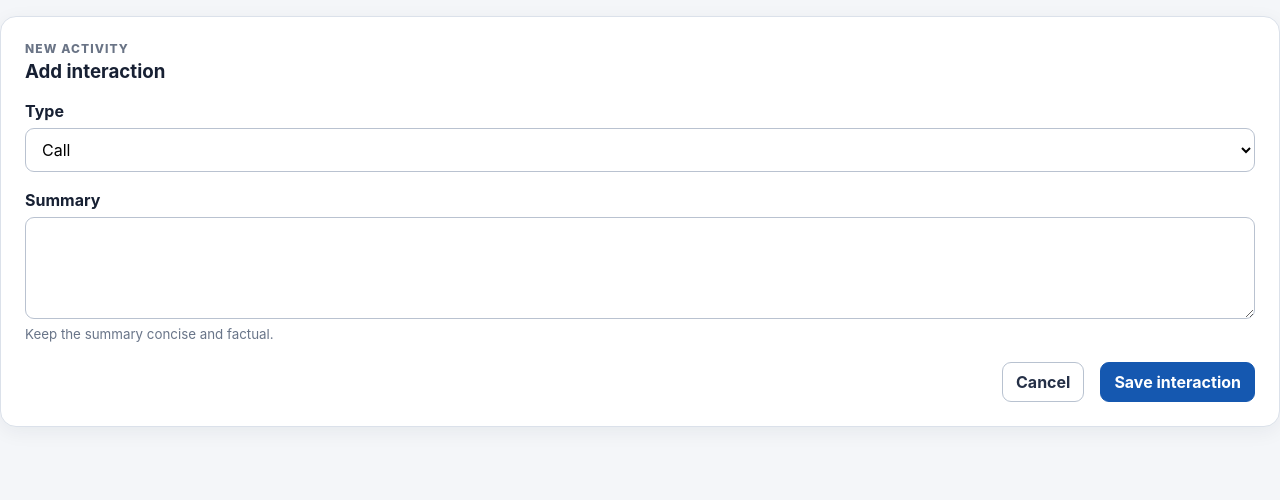
it: InteractionForm › requires a summary
This screenshot has width=1280, height=500.
Click the button "Save interaction" at (1178, 382), box left=1100, top=362, right=1255, bottom=402
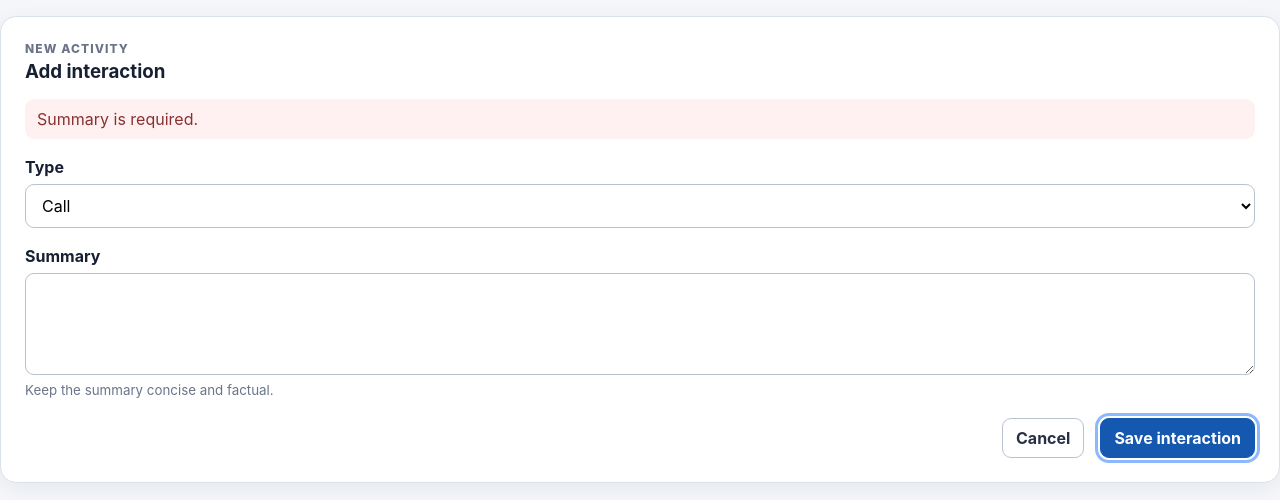
Check: the message "Summary is required." is shown, box left=25, top=99, right=1255, bottom=139
